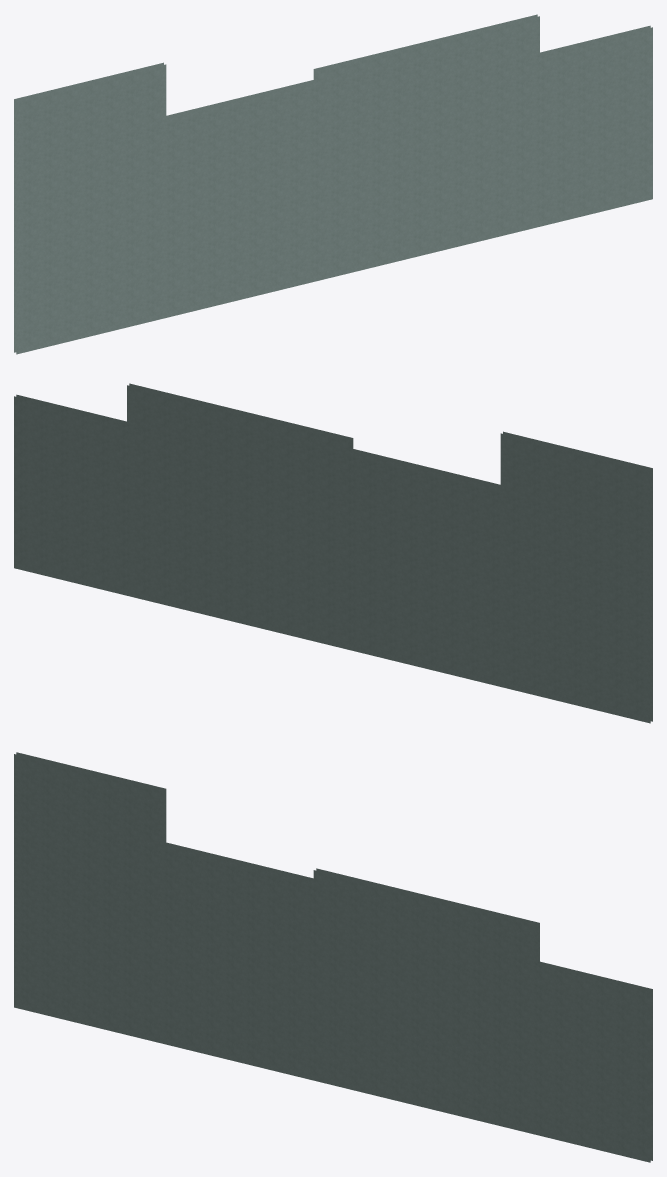
Rendered from floor_2.obj.
3 views of the same model, one above another, from view 1: azimuth 30°, elevation 25°; view 2: azimuth 150°, elevation 25°; view 3: azimuth 330°, elevation 25° (orthographic).
Visible parts, largest first — view 1: floor_2; view 2: floor_2; view 3: floor_2.
Part boxes in pixels (bbox=[...]): floor_2: bbox=[14, 14, 652, 354]; floor_2: bbox=[14, 383, 652, 723]; floor_2: bbox=[14, 752, 652, 1162].
Size of the model in its own units: 15.5 by 5.9 by 0.1.
